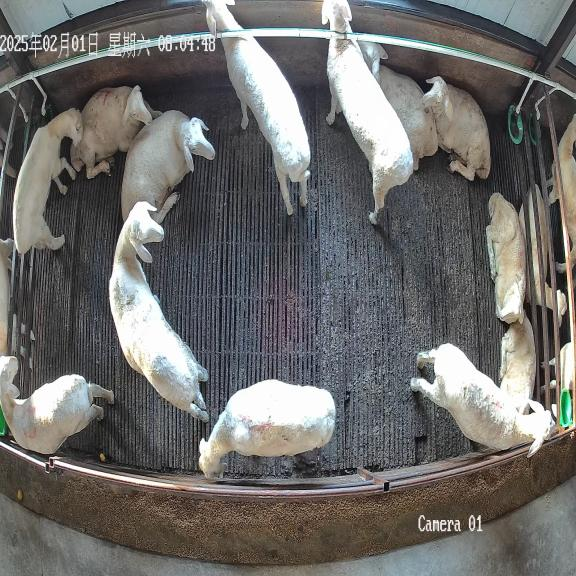lying: (121, 110, 215, 224), (360, 41, 437, 170), (70, 86, 161, 178), (422, 76, 491, 180), (486, 193, 526, 323), (499, 310, 536, 413)
stand: (202, 0, 310, 215), (109, 201, 209, 422), (322, 0, 413, 224), (410, 343, 554, 457), (199, 380, 336, 478), (0, 356, 114, 453), (12, 108, 83, 254)
